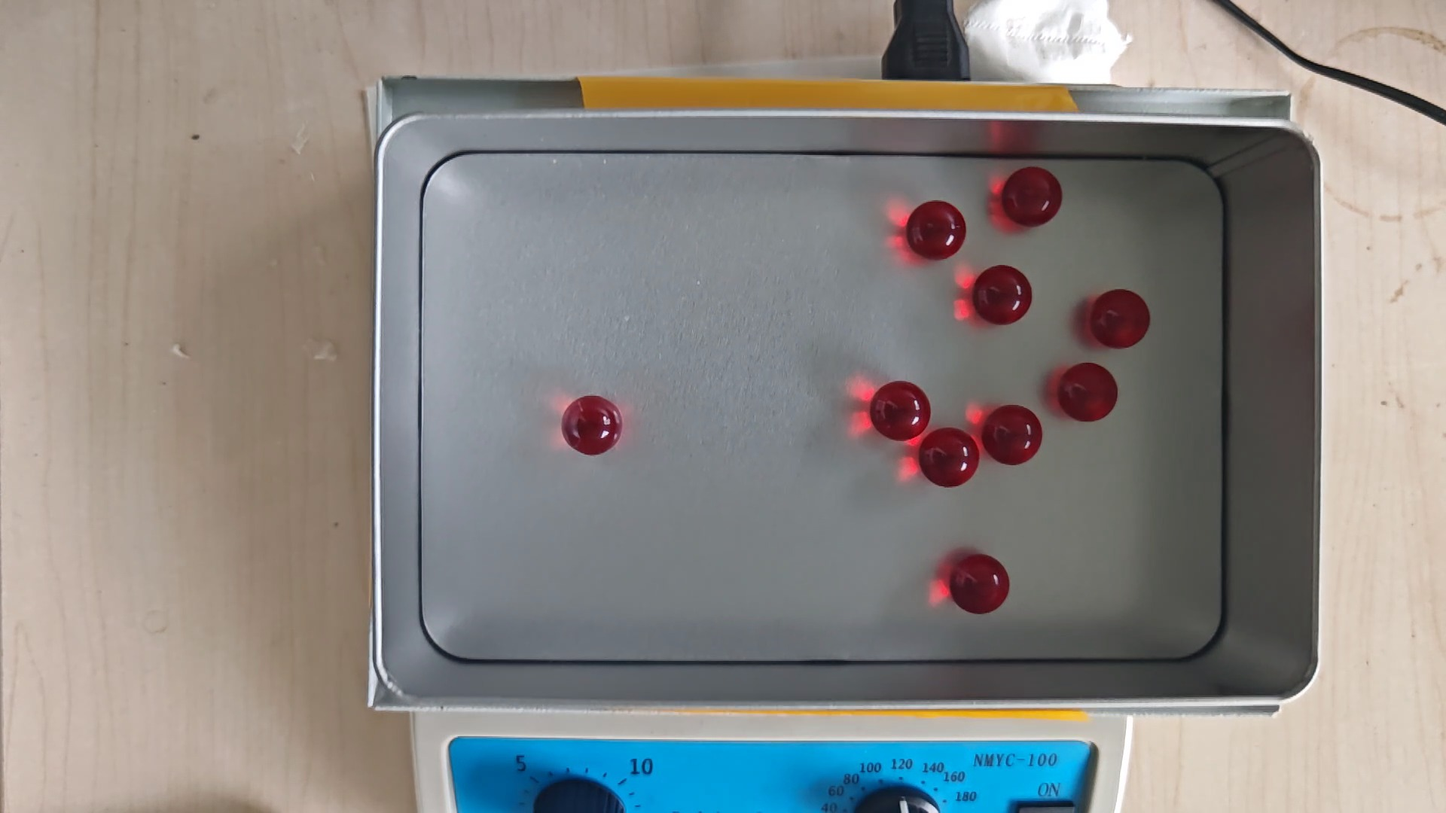ball: (1090, 288, 1151, 350), (870, 380, 931, 441), (562, 394, 622, 456), (950, 553, 1010, 615), (983, 404, 1043, 466), (973, 264, 1032, 326), (907, 199, 966, 261), (920, 427, 979, 488), (1002, 166, 1061, 227), (1059, 362, 1118, 423)
container: (413, 152, 1230, 663)
